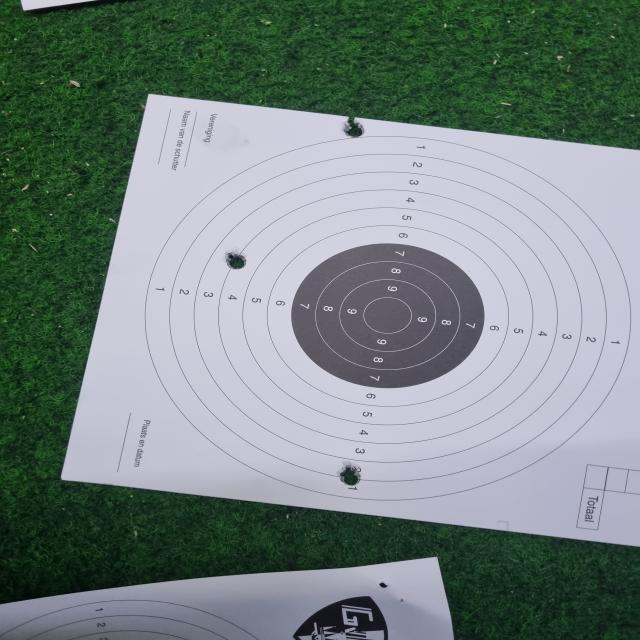3: (338, 464, 361, 486)
5: (226, 252, 247, 270)
Black Contour: (292, 242, 486, 390)
Target: (143, 136, 640, 500), (0, 597, 259, 640)
hole: (342, 120, 365, 138)
